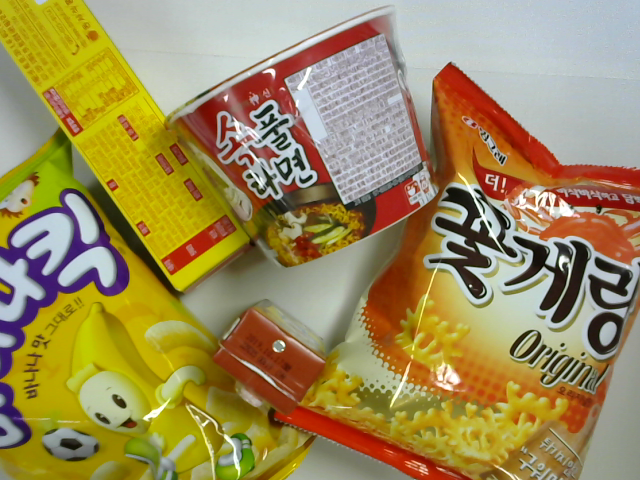Banana_Kick: (1, 143, 283, 467)
Choco_E_Mong: (218, 321, 346, 399)
Crabrang: (346, 72, 640, 461)
Hejangpul: (161, 5, 445, 246)
Ritz_Remon_96g: (1, 3, 254, 285)
